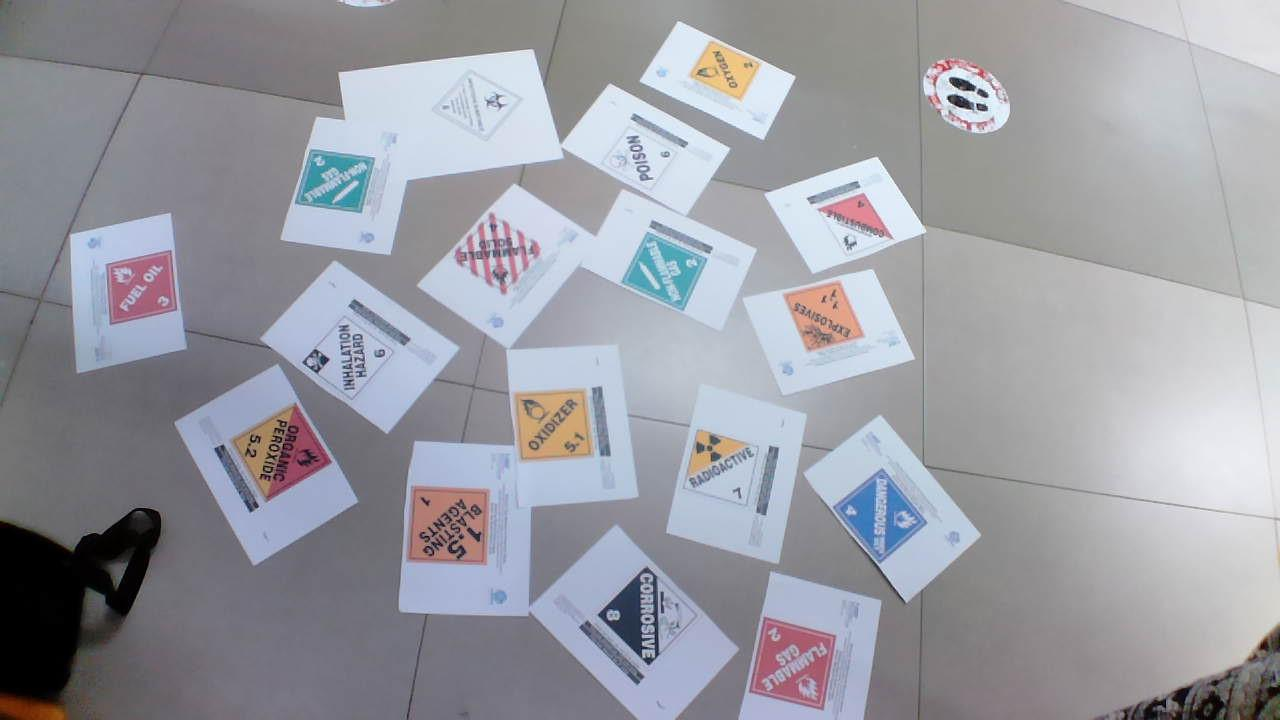corrosive: (601, 566, 699, 666)
dangerous-when-wet: (830, 467, 933, 564)
explosive: (764, 275, 878, 361), (404, 481, 497, 576)
flammable: (744, 615, 840, 713), (100, 246, 195, 319)
flammable-solid: (453, 210, 543, 295)
infectious-substance: (428, 69, 525, 138)
non-flammable-gas: (616, 226, 711, 317), (288, 148, 383, 218)
organic-peroxide: (226, 403, 336, 502)
oxidizer: (504, 384, 596, 468), (686, 36, 774, 109)
poison: (298, 314, 396, 403), (602, 114, 691, 190)
radioactive: (672, 420, 773, 511)
spontaneously-combustible: (812, 179, 902, 262)
